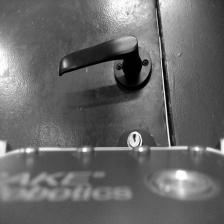Door Handle: (53, 30, 154, 94)
Lock: (115, 127, 156, 147)
